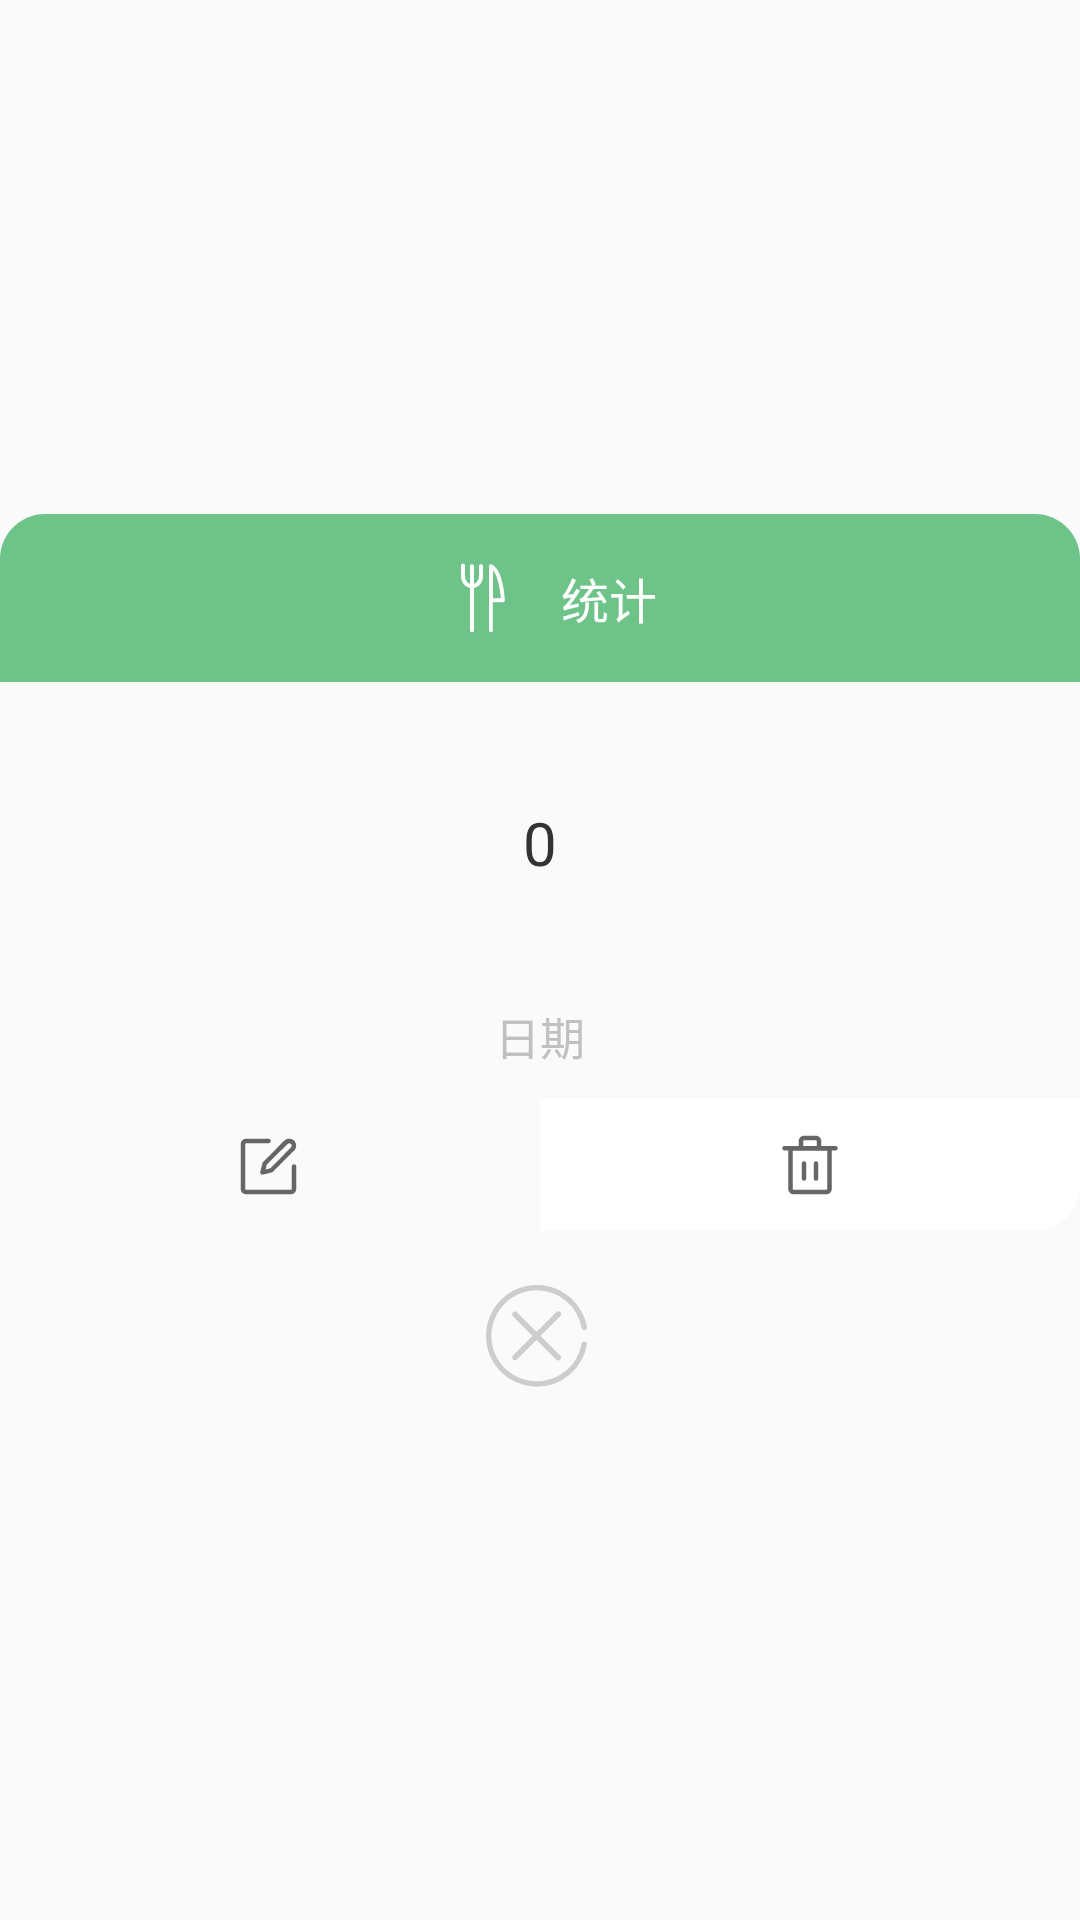

Point at icon controls on the screen. Image size 1080 × 1920, points as (x=x, y=y).
ashbin: (x=810, y=1165)
close: (x=536, y=1336)
edit: (x=268, y=1166)
fork: (x=483, y=597)
